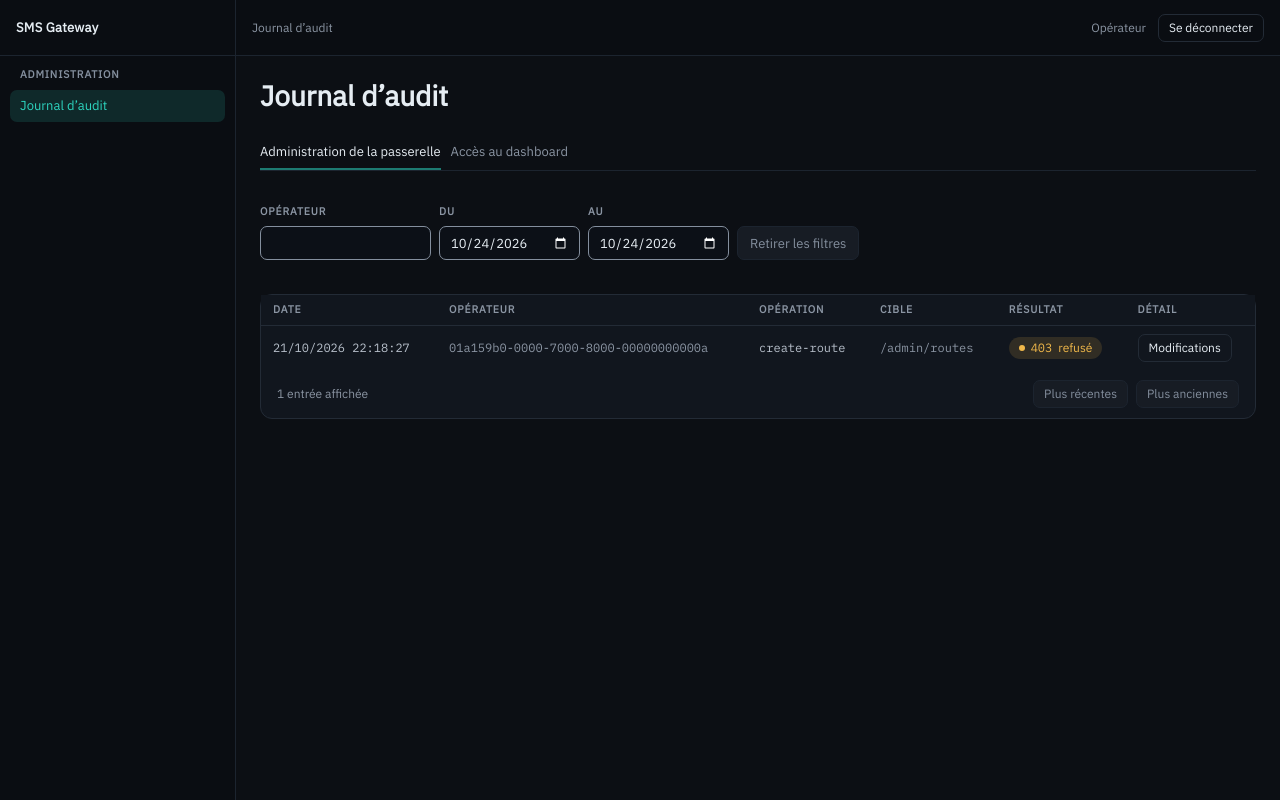
Test: the changes of a request are paged, and two changes of one row both show
The width and height of the screenshot is (1280, 800).
Click the button "Modifications" at x=1185, y=348, box [1138,334,1232,362]
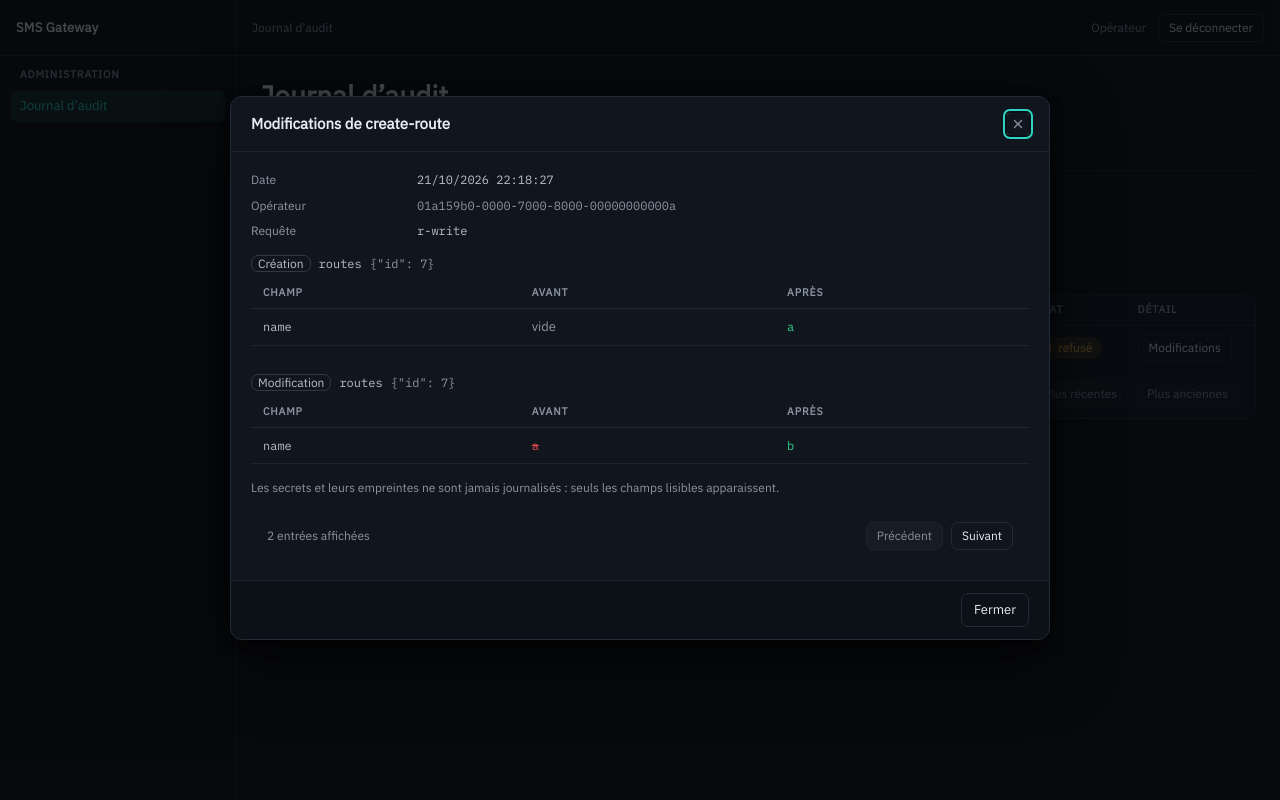
Expected: the number of headings "routes" is 2, [318,256,362,271]; [339,374,383,390]
Expected: the text "2 entrées affichées" is shown, [267,528,370,544]
Expected: the row "name vide a" is shown, [251,309,1029,345]
Click the button "Suivant" at x=982, y=536, box [951,522,1013,550]
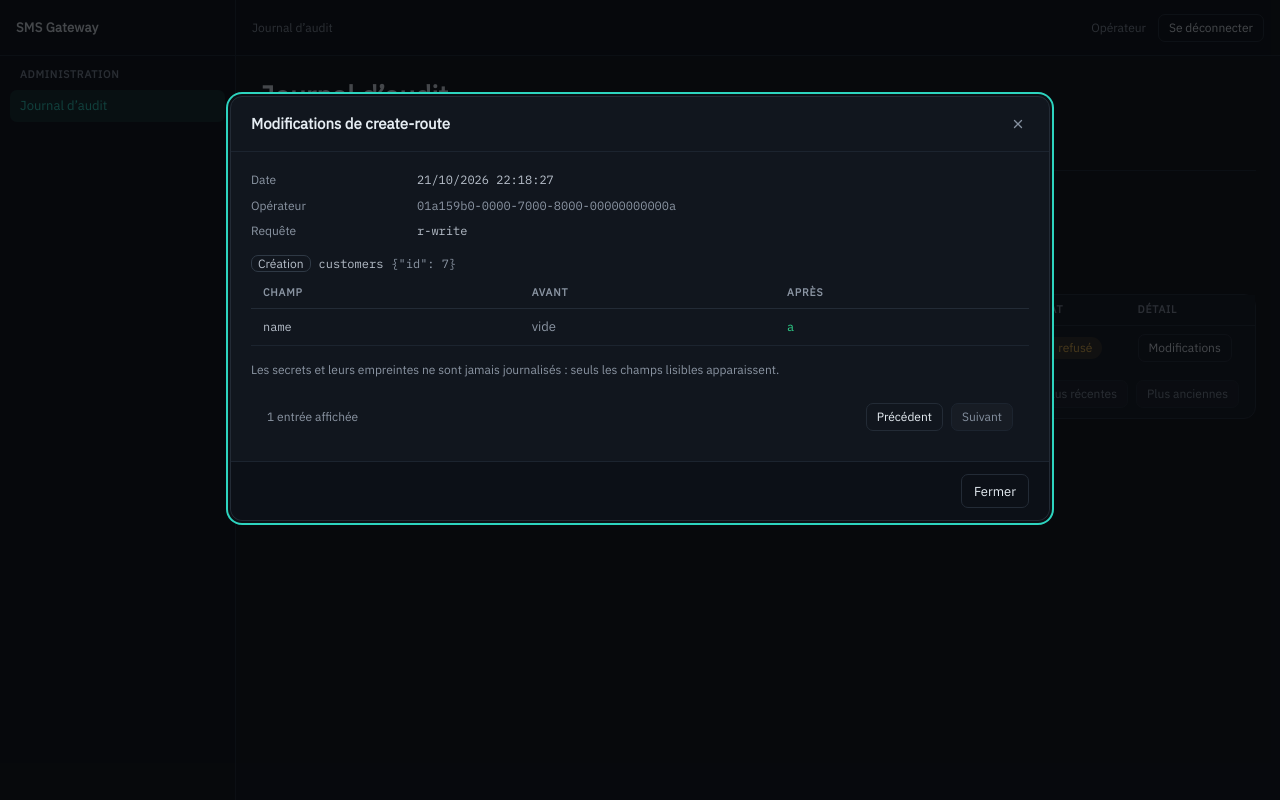
Expected: the heading "customers" is shown, [318,256,383,271]
Click the button "Précédent" at x=904, y=417, box [866,403,943,431]
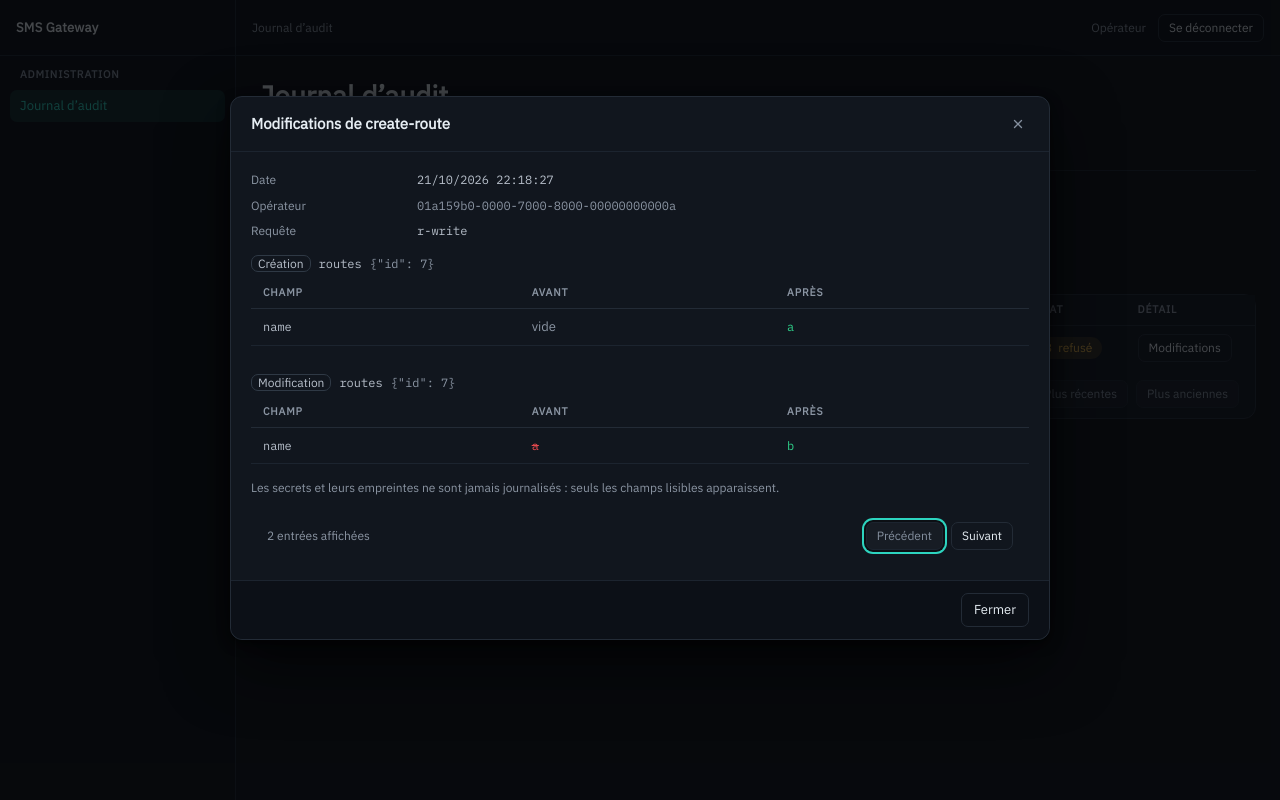
Expected: the number of headings "routes" is 2, [318,256,362,271]; [339,374,383,390]
